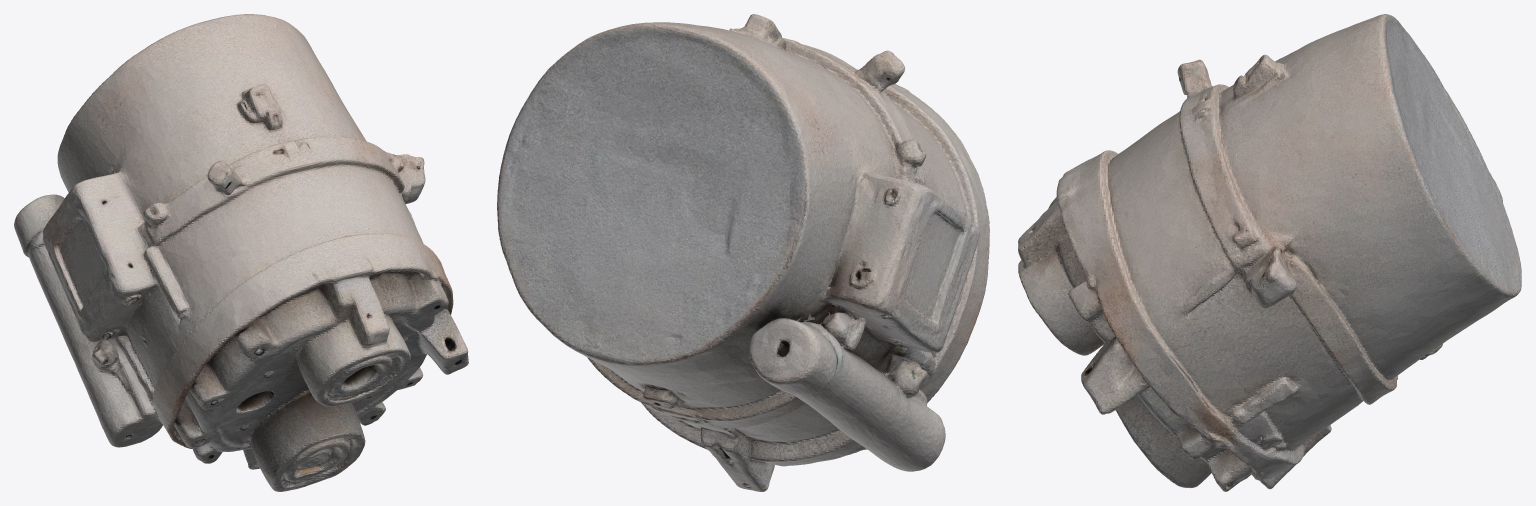
File: wing (8).glb
The picture shows the model from 3 angles, left to right: view 1: azimuth 30°, elevation 25°; view 2: azimuth 150°, elevation 25°; view 3: azimuth 270°, elevation 25°; orthographic projection. The views are drawn at different scales.
Parts seen in each view (by area): view 1: Hy21_Mesh.obj; view 2: Hy21_Mesh.obj; view 3: Hy21_Mesh.obj.
Part boxes in pixels (x1,y1,x2,y2): Hy21_Mesh.obj: (14, 14, 468, 491); Hy21_Mesh.obj: (497, 14, 989, 491); Hy21_Mesh.obj: (1018, 14, 1521, 491).
Size of the model in its own units: 1.63 by 1.95 by 1.96.
Materials: 1 (1 with a texture image).
